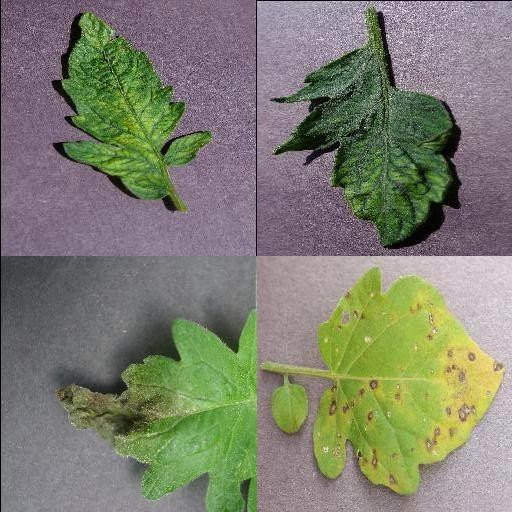Late Blight: (54, 304, 256, 512)
Mosaic Virus: (267, 44, 455, 250), (56, 6, 212, 200)
Septoria: (311, 270, 505, 496)
